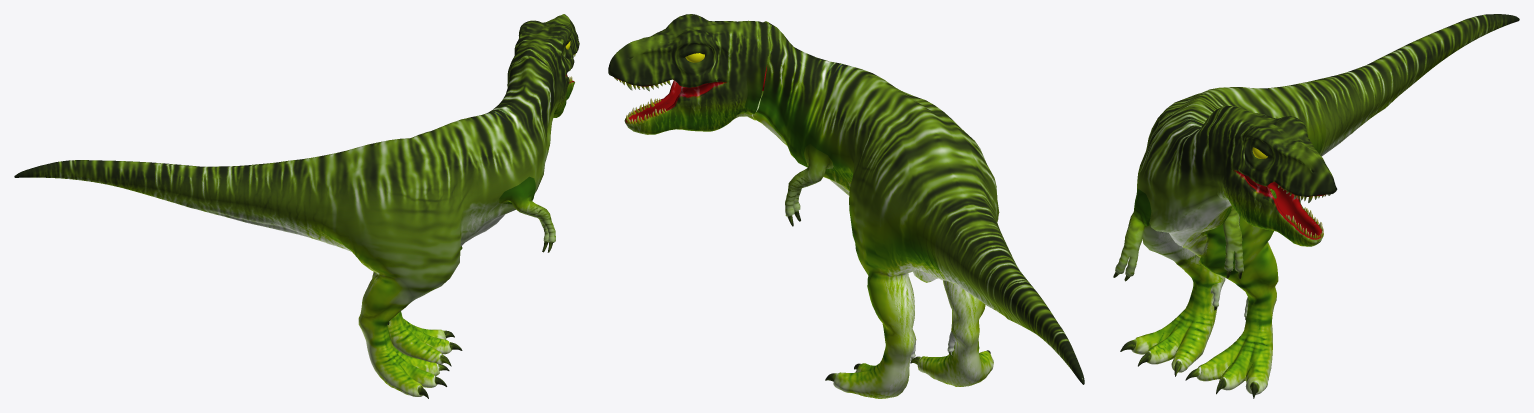
The model's file is Trex.fbx.
3 views of the same model, side by side, from view 1: azimuth 30°, elevation 25°; view 2: azimuth 150°, elevation 25°; view 3: azimuth 270°, elevation 25° (orthographic). The views are drawn at different scales.
Visible parts, largest first — view 1: Trex, Trex.001; view 2: Trex, Trex.001; view 3: Trex, Trex.001.
Boxes of the visible parts, x1,y1,x2,y2 form: Trex: (14, 56, 556, 398); Trex.001: (507, 14, 579, 117); Trex: (752, 21, 1084, 398); Trex.001: (608, 14, 771, 134); Trex: (1113, 14, 1519, 398); Trex.001: (1208, 106, 1337, 246).
Bounding box in the file's own units: 30.29 × 17.19 × 18.69.
